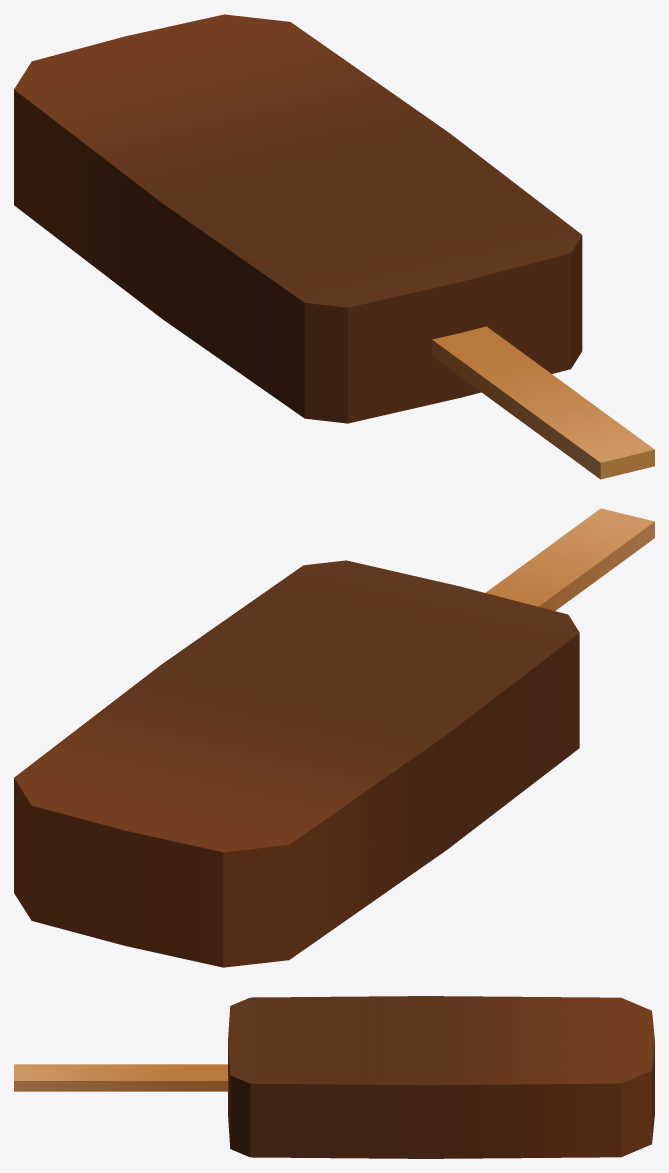
The model's file is IceCream.fbx.
3 renders of one model, top to bottom at view 1: azimuth 30°, elevation 25°; view 2: azimuth 150°, elevation 25°; view 3: azimuth 270°, elevation 25°, orthographic. The views are drawn at different scales.
Parts seen in each view (by area): view 1: IceCream; view 2: IceCream; view 3: IceCream.
Boxes of the visible parts, bbox=[...] form: IceCream: bbox=[14, 14, 654, 479]; IceCream: bbox=[14, 508, 654, 967]; IceCream: bbox=[14, 996, 654, 1158].
Size of the model in its own units: 6.65 by 20.19 by 2.56.
